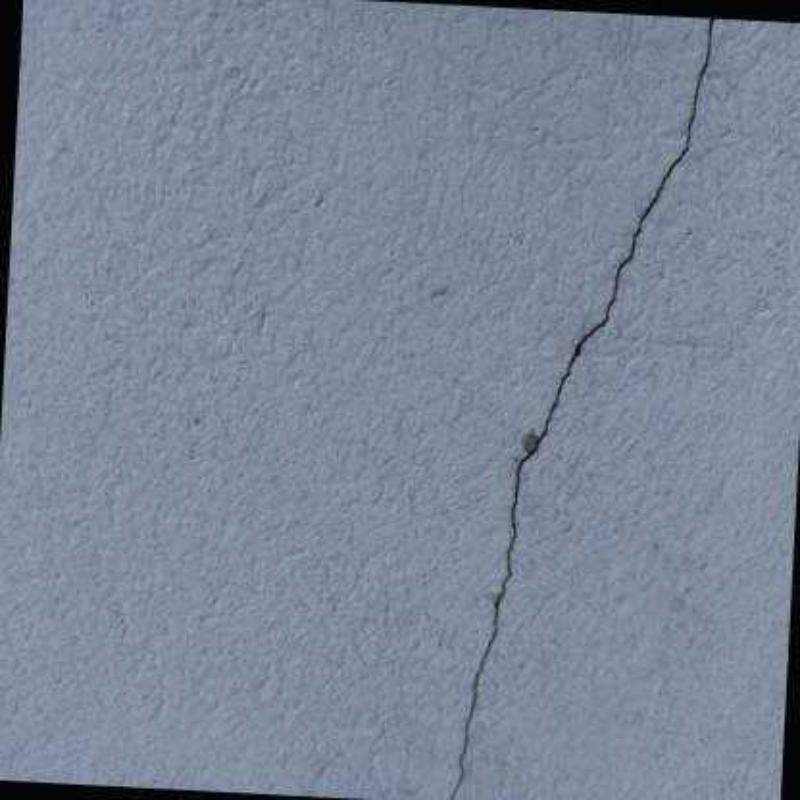crack: (445, 15, 714, 800)
